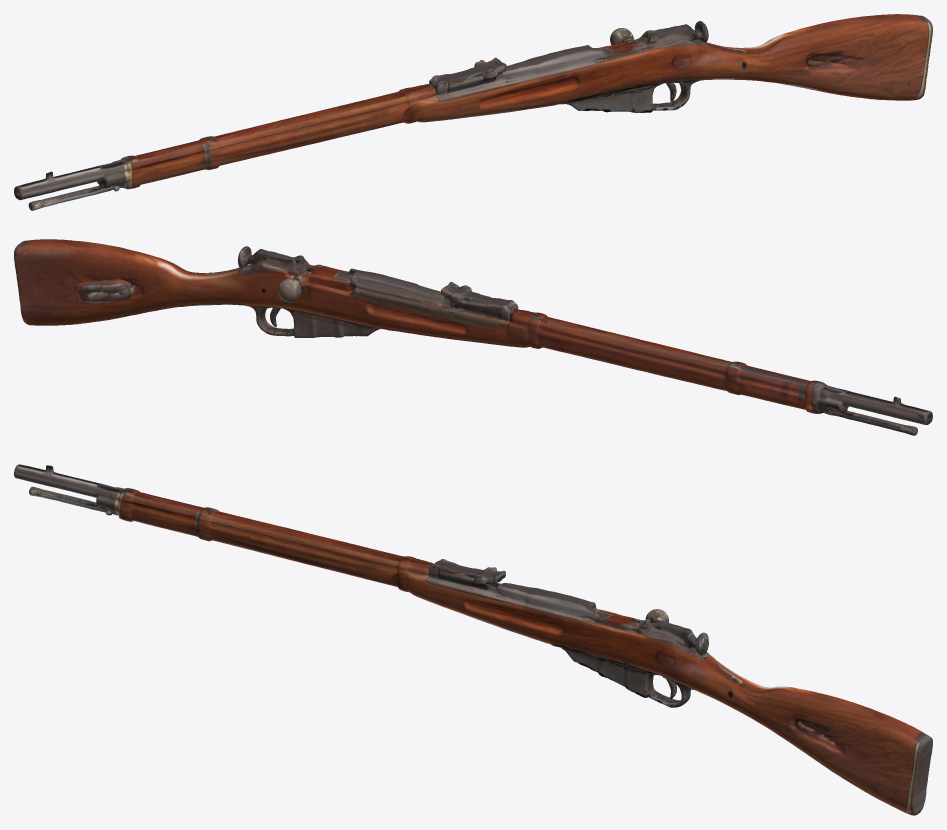
Rendered from Rifle_on_White_Backgr_1030145008_texture.fbx.
3 renders of one model, top to bottom at view 1: azimuth 30°, elevation 25°; view 2: azimuth 150°, elevation 25°; view 3: azimuth 330°, elevation 25°, orthographic.
Parts seen in each view (by area): view 1: input; view 2: input; view 3: input.
Boxes of the visible parts, x1,y1,x2,y2 form: input: (14, 14, 932, 210); input: (14, 239, 932, 435); input: (14, 464, 932, 815).
Bounding box in the file's own units: 190 × 27.95 × 11.47.
1 material, 1 textured.
